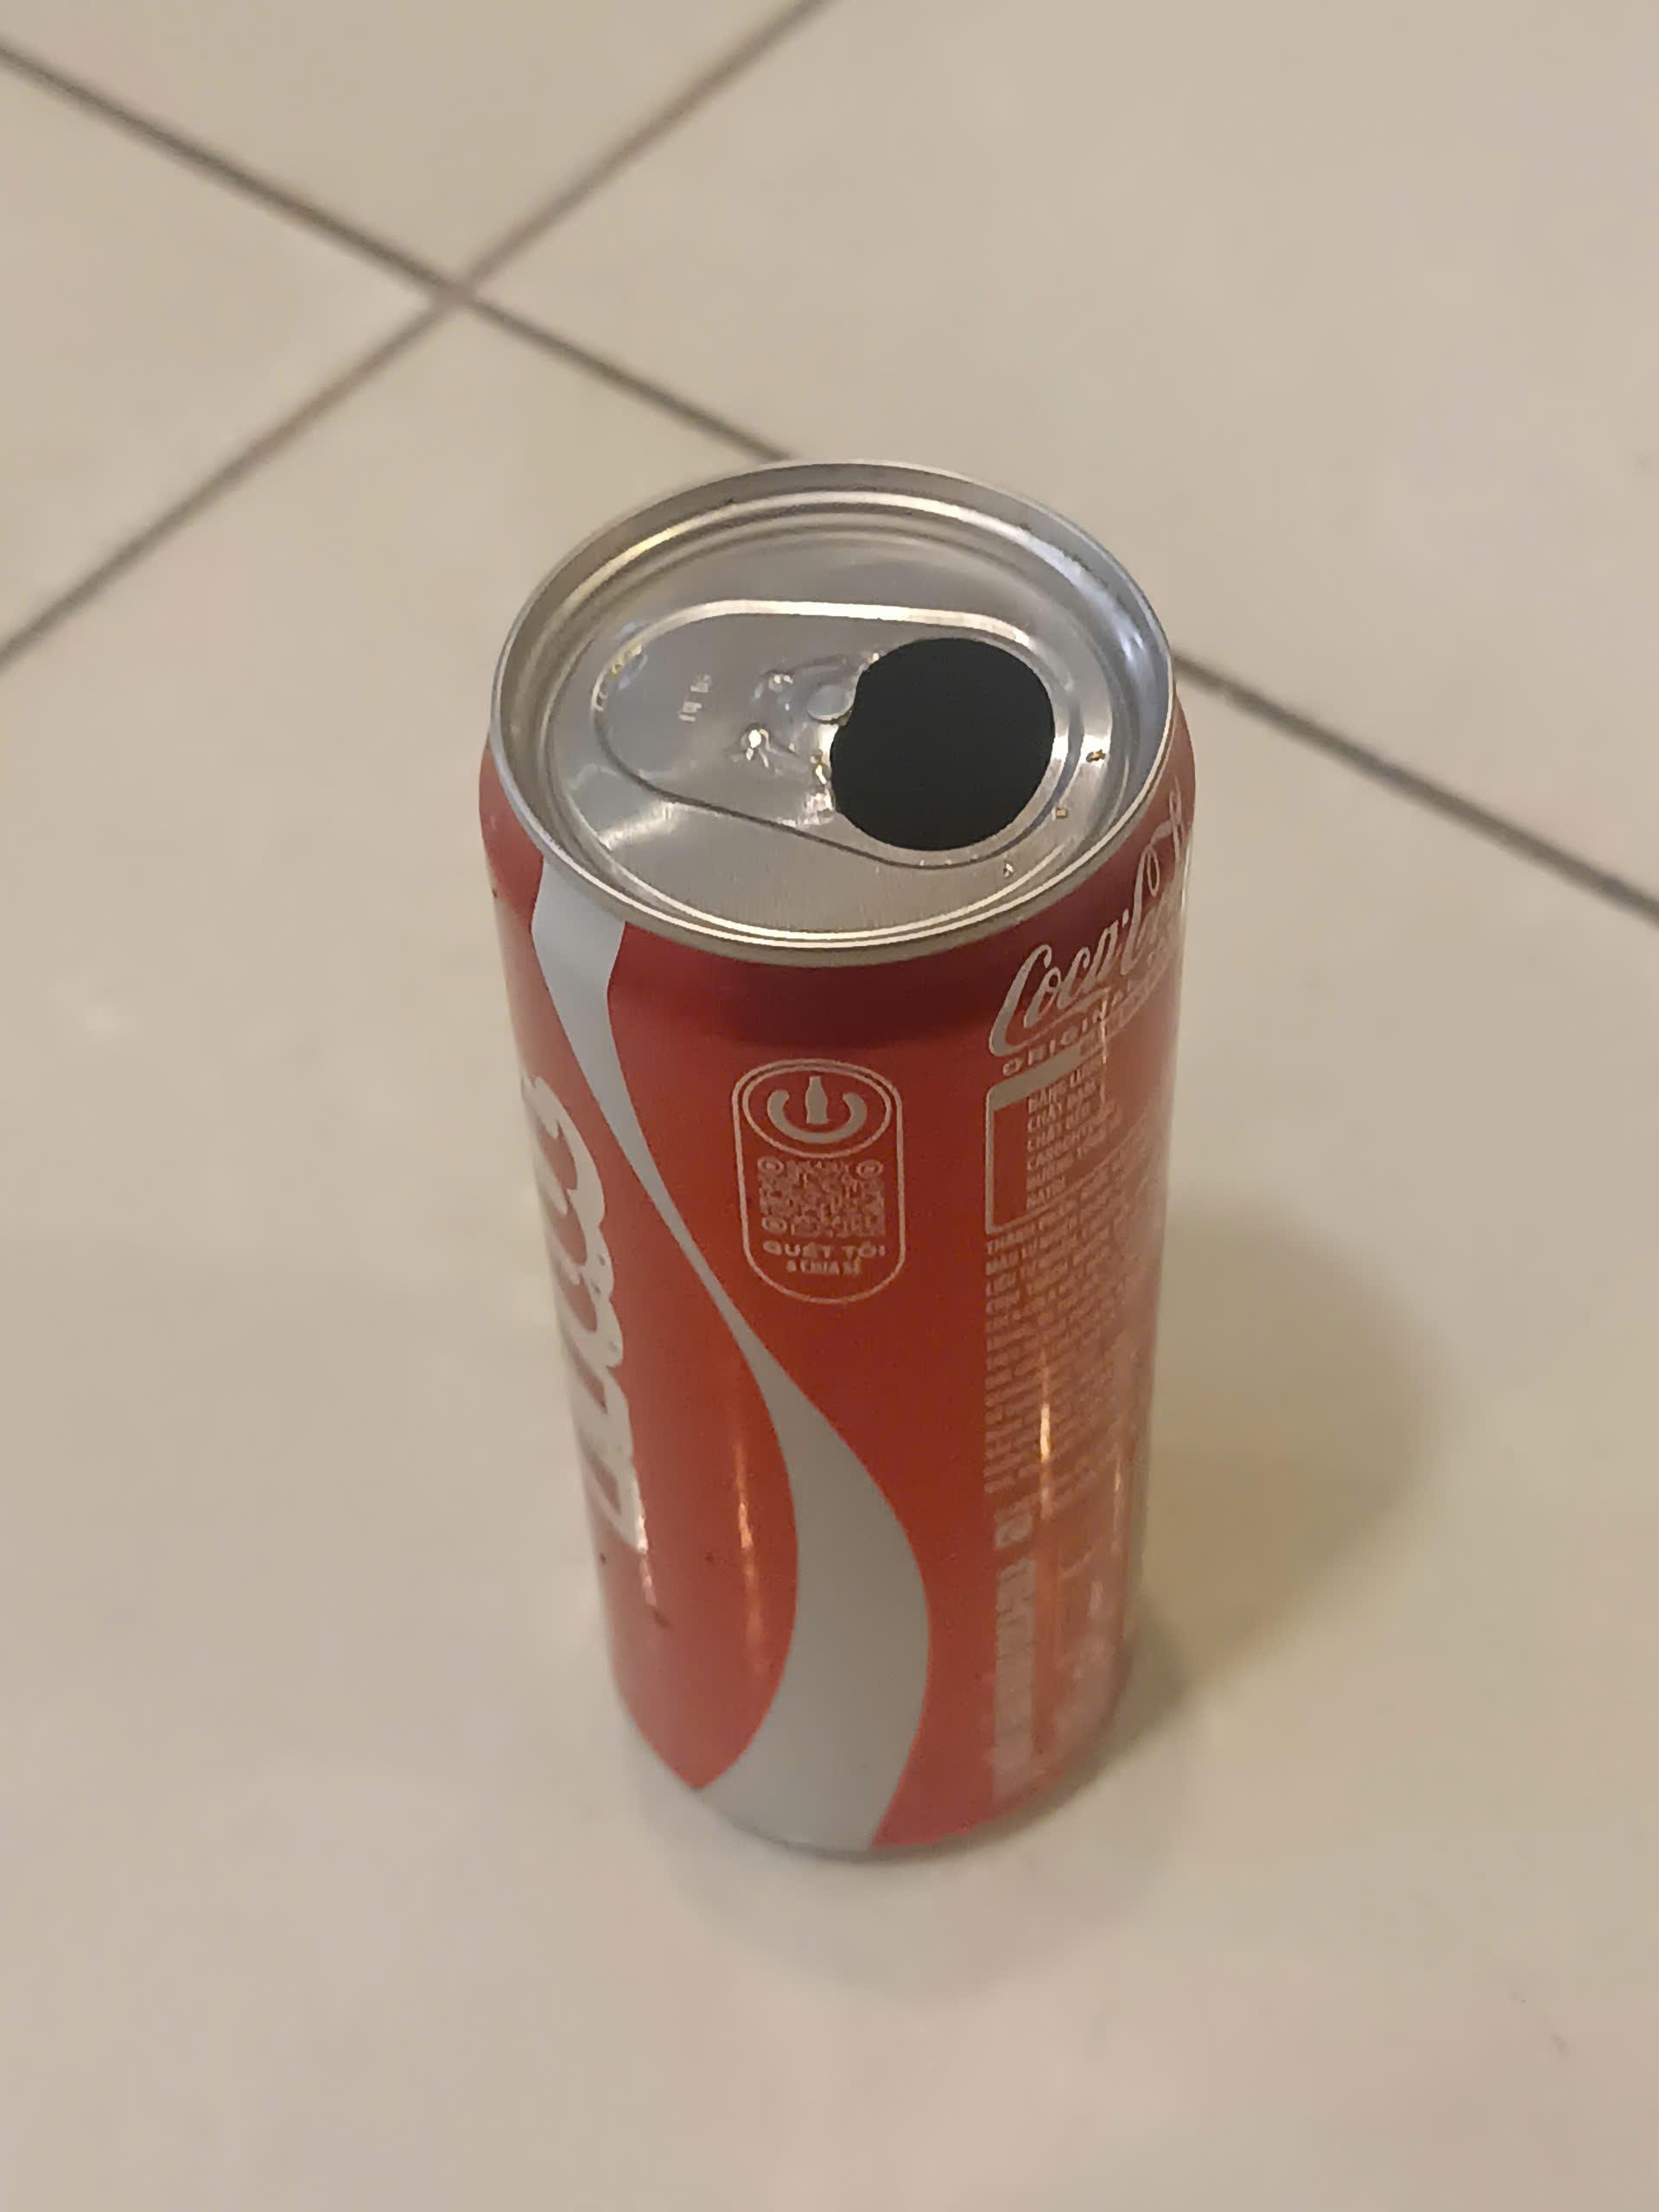Vo co: (484, 458, 1199, 1867)
